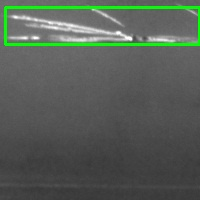scratches: (6, 7, 199, 44)
